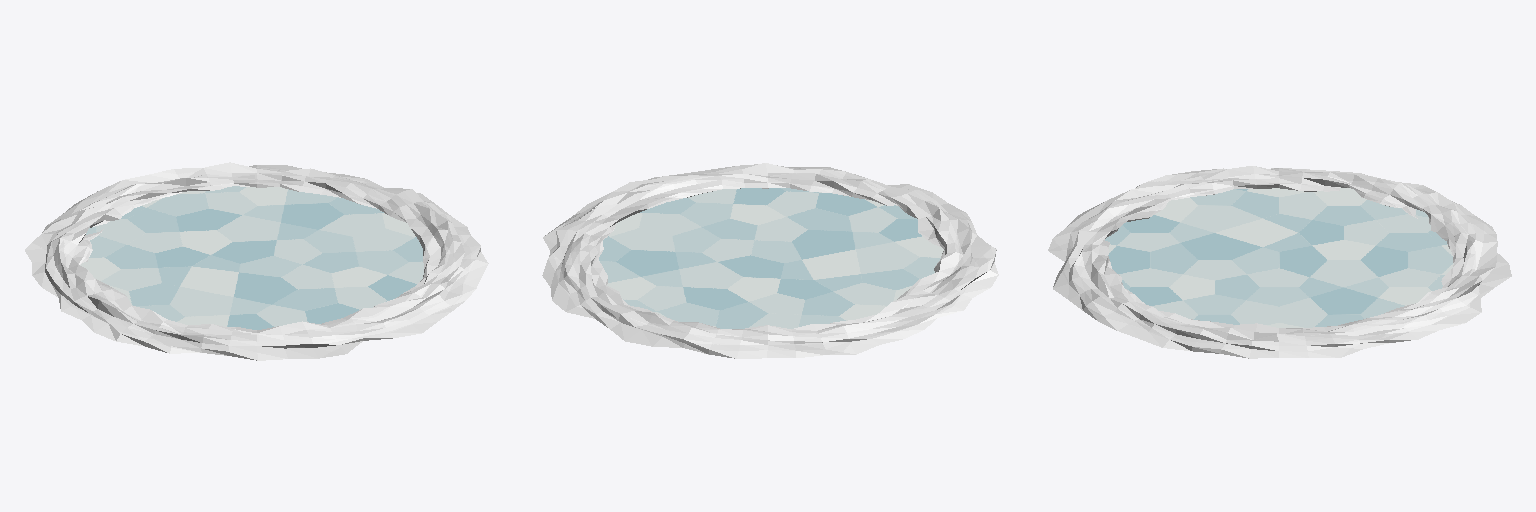
The picture shows the model from 3 angles: view 1: azimuth 30°, elevation 25°; view 2: azimuth 150°, elevation 25°; view 3: azimuth 270°, elevation 25°; orthographic projection.
Parts seen in each view (by area): view 1: Disc, Torus; view 2: Disc, Torus; view 3: Disc, Torus.
Boxes of the visible parts, <box> form: Disc: <box>80,186,423,329</box>; Torus: <box>25,162,488,360</box>; Disc: <box>599,188,943,328</box>; Torus: <box>542,163,998,358</box>; Disc: <box>1105,187,1453,327</box>; Torus: <box>1048,166,1511,358</box>.
Size of the model in its own units: 46.89 by 1.72 by 48.14.
Materials: 3 (3 with a texture image).